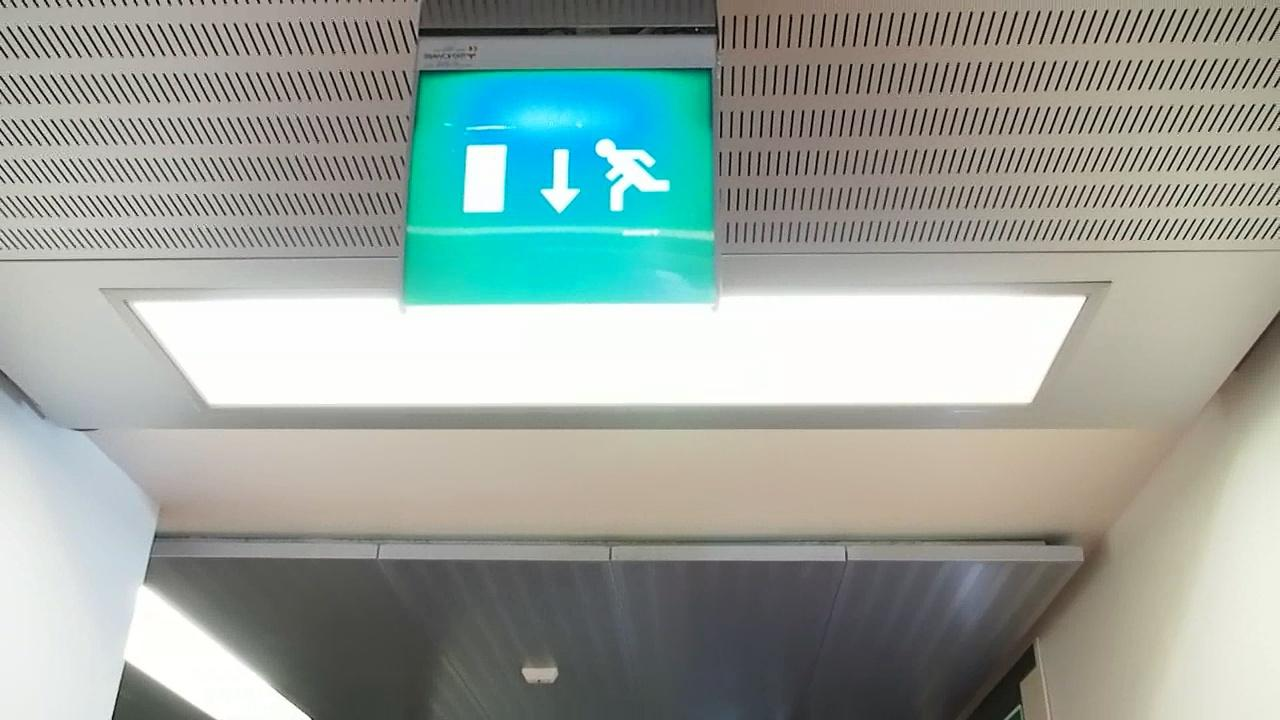exit: (403, 61, 726, 311)
